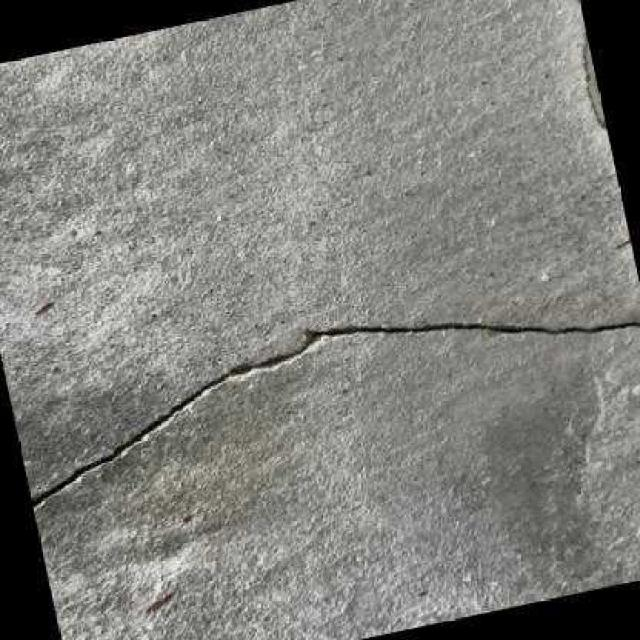D00: (31, 317, 640, 508)
